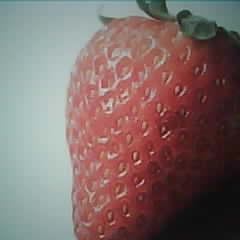straw-ripe: (66, 19, 240, 240)
